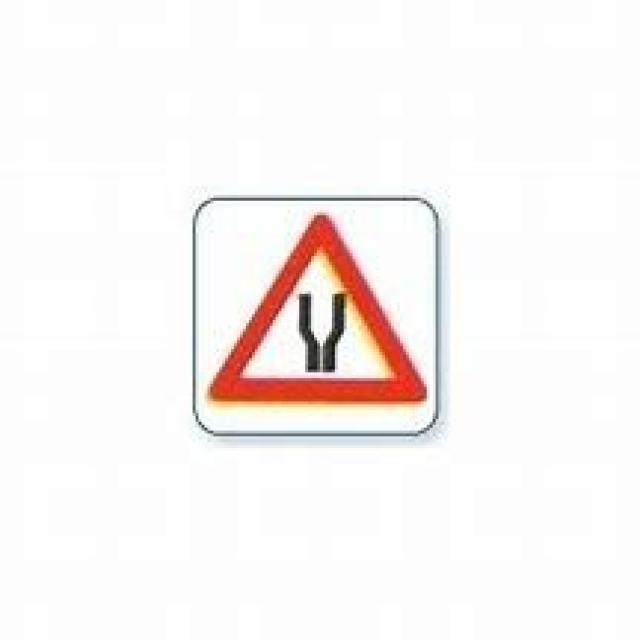road widens ahead: (204, 209, 434, 415)
